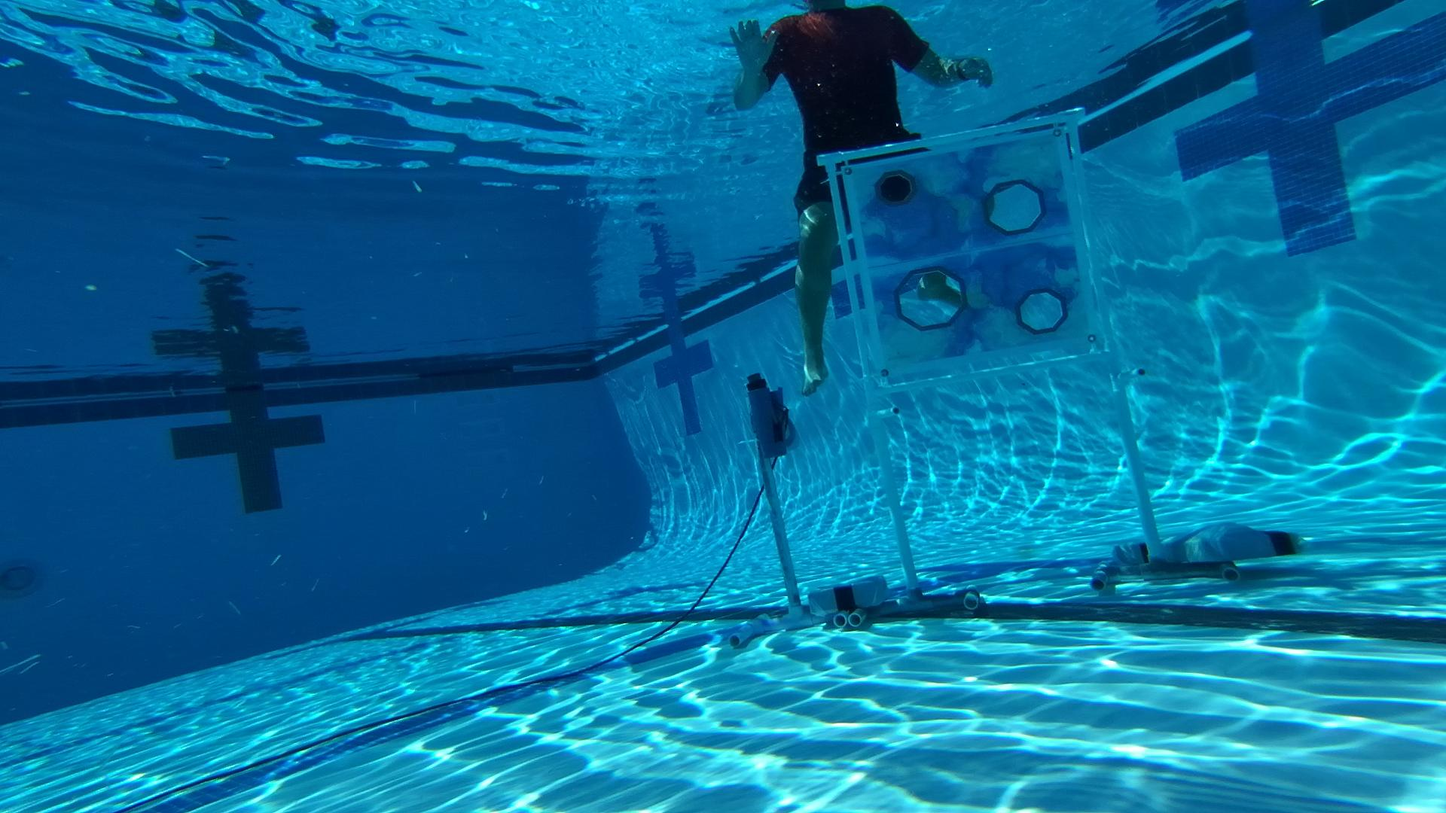red octagon: (890, 262, 977, 333), (985, 176, 1047, 238), (1010, 291, 1066, 341), (874, 169, 917, 209)
